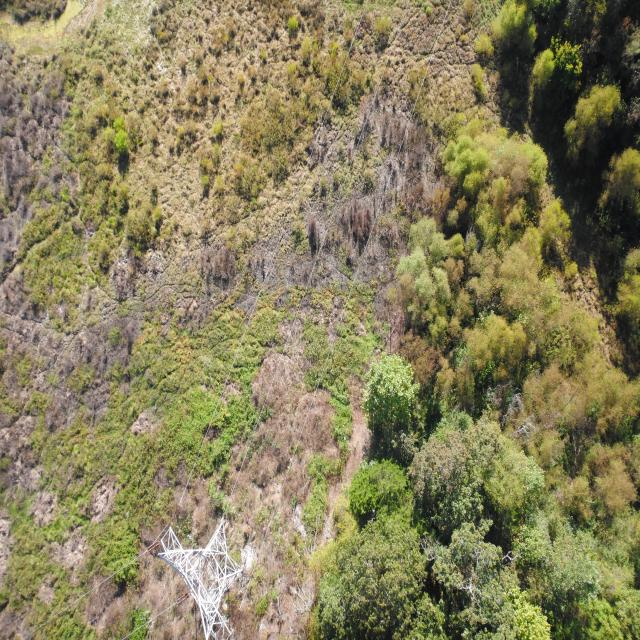Area of Interest: (323, 363, 637, 637), (491, 15, 640, 335)
